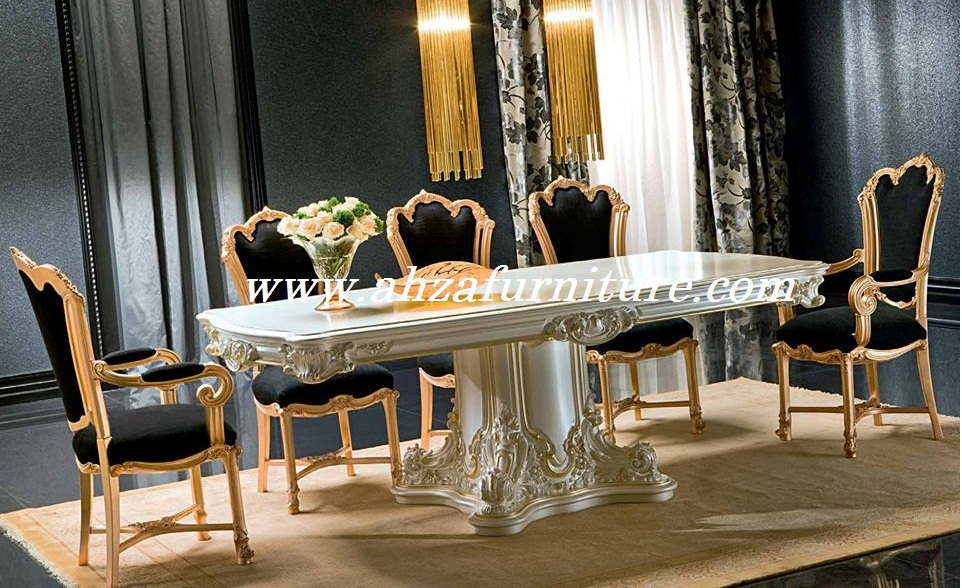Carving Chair: (17, 237, 260, 556), (788, 142, 962, 463)
Carving Table: (211, 246, 833, 514)
